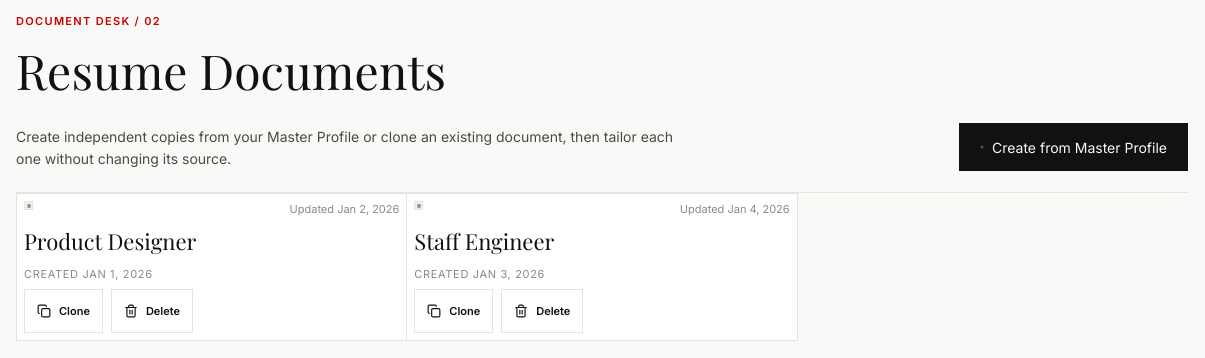
Test: DocumentsList › creates a Resume Document from the Master Profile
The image size is (1205, 358).
Step 1. Click the button "Create from Master Profile" → (1074, 147), box [959,123,1188,171]
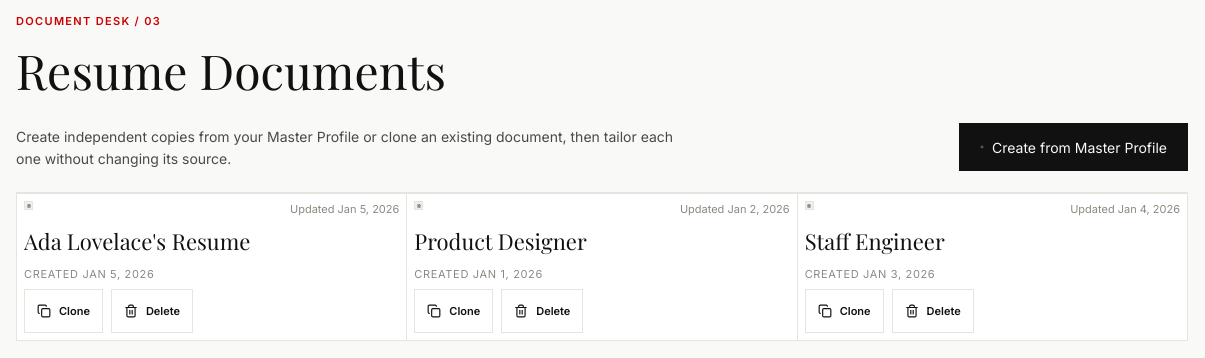
Result: the link "Ada Lovelace's Resume" is shown at [24,226,250,256]
